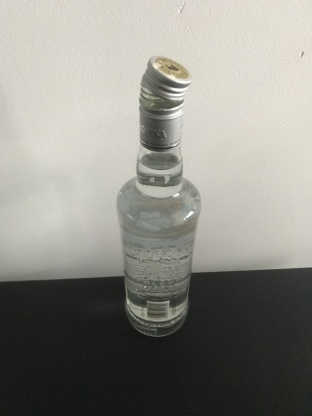nakretka: (137, 53, 193, 152)
